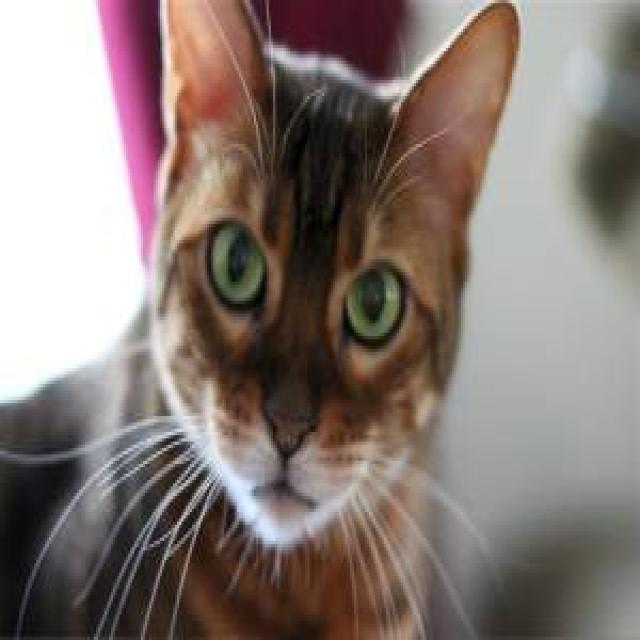Bengal: (147, 0, 516, 547)
